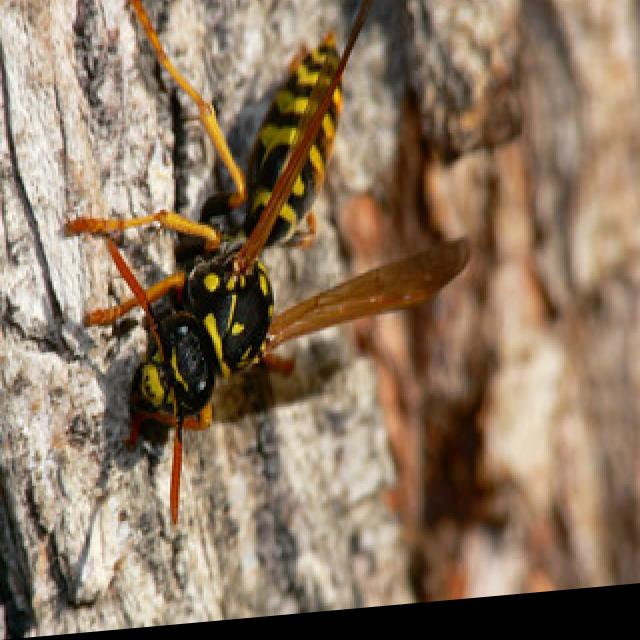Guepe: (66, 0, 478, 534)
